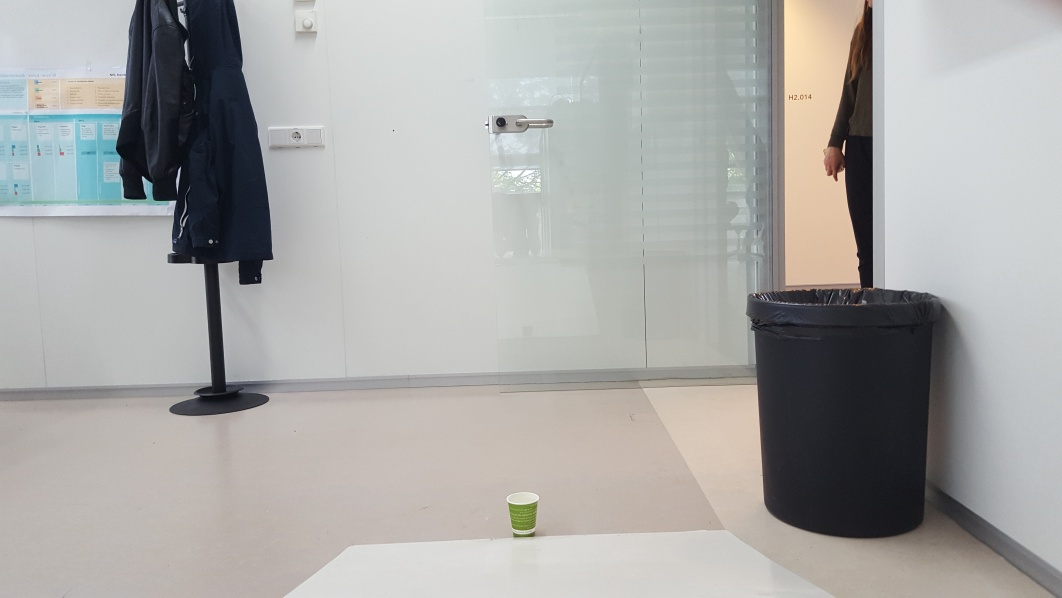cup: (507, 491, 542, 538)
